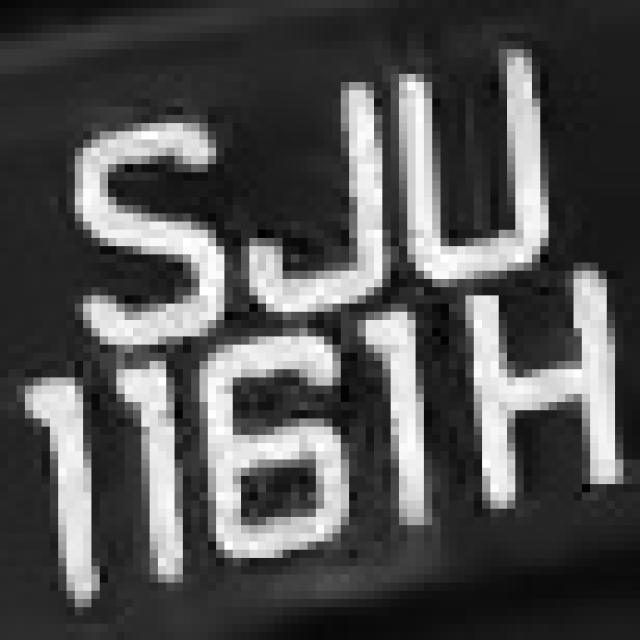1: (333, 312, 457, 566), (8, 369, 116, 632), (125, 353, 224, 607)
6: (191, 304, 200, 312)
H: (441, 271, 624, 517)
J: (208, 57, 390, 320)
S: (58, 98, 241, 353)
U: (382, 49, 582, 296)
